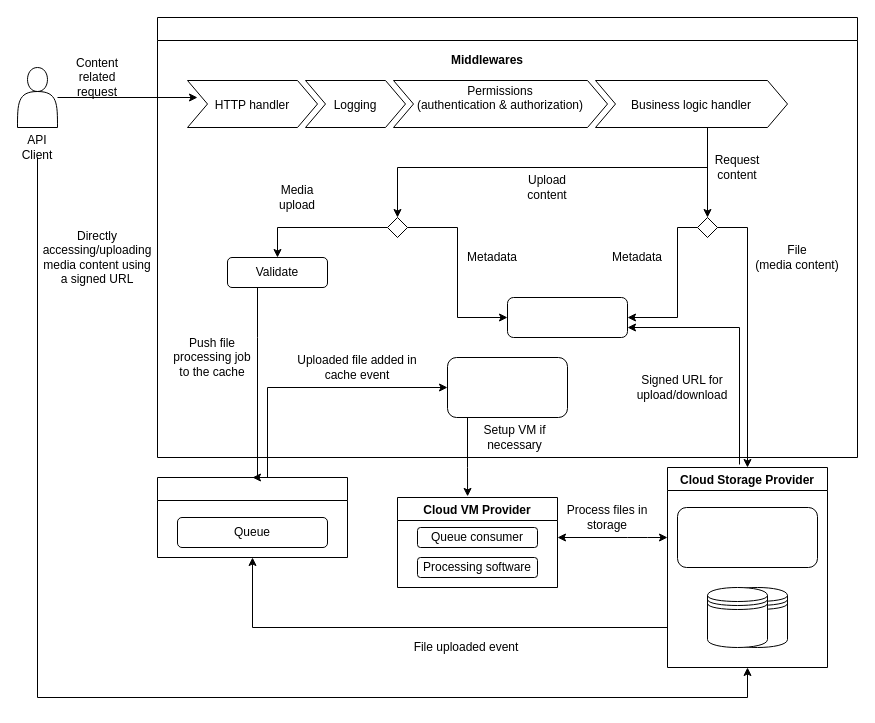
This 875x723 diagram has some shape labels left out. Each missing label, with the box of its shape:
Cloud API Provider: (156, 16, 858, 458)
Cloud Cache Provider: (156, 476, 348, 558)
Generate signed URL for downloading/uploading: (676, 506, 818, 568)
JSON response: (506, 296, 628, 338)
VM manager (processing strategy): (446, 356, 568, 418)
